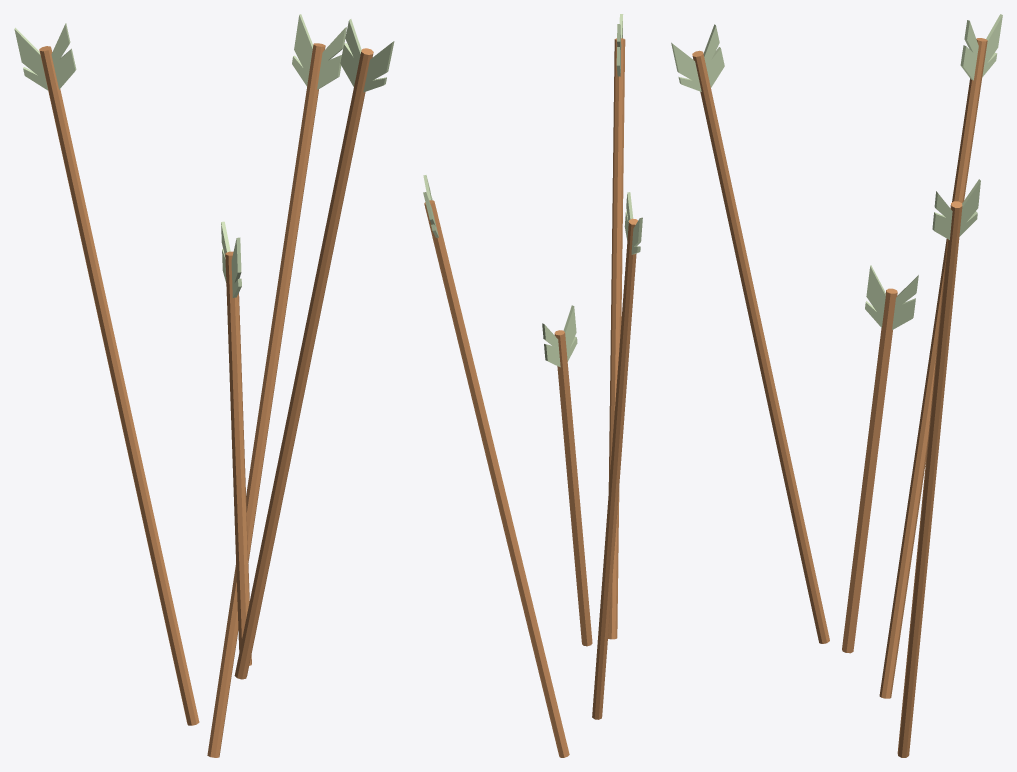
Rendered from Flechas1.fbx.
The picture shows the model from 3 angles, left to right: view 1: azimuth 30°, elevation 25°; view 2: azimuth 150°, elevation 25°; view 3: azimuth 270°, elevation 25°; orthographic projection. The views are drawn at different scales.
Parts seen in each view (by area): view 1: Cylinder.002, Cylinder.003, Cylinder, Cylinder.001, Cube.002, Cube.003, Cube, Cube.001; view 2: Cylinder.003, Cylinder.002, Cylinder, Cylinder.001, Cube.001, Cube.002; view 3: Cylinder, Cylinder.003, Cylinder.002, Cylinder.001, Cube.001, Cube, Cube.003, Cube.002.
Boxes of the visible parts, x1,y1,x2,y2 form: Cylinder.002: (39,46,199,725); Cylinder.003: (207,43,325,757); Cylinder: (234,48,373,679); Cylinder.001: (225,251,251,665); Cube.002: (14,23,76,90); Cube.003: (292,14,346,89); Cube: (340,19,394,92); Cube.001: (221,221,241,297); Cylinder.003: (424,200,569,757); Cylinder.002: (592,218,637,719); Cylinder: (608,38,625,639); Cylinder.001: (554,330,592,646); Cube.001: (542,305,577,367); Cube.002: (624,192,642,254); Cylinder: (692,50,829,643); Cylinder.003: (897,201,962,757); Cylinder.002: (879,38,987,698); Cylinder.001: (842,288,897,653); Cube.001: (865,265,918,329); Cube: (671,24,724,91); Cube.003: (932,179,980,239); Cube.002: (960,14,1002,80).
Size of the model in its own units: 72.16 by 185 by 74.59.
